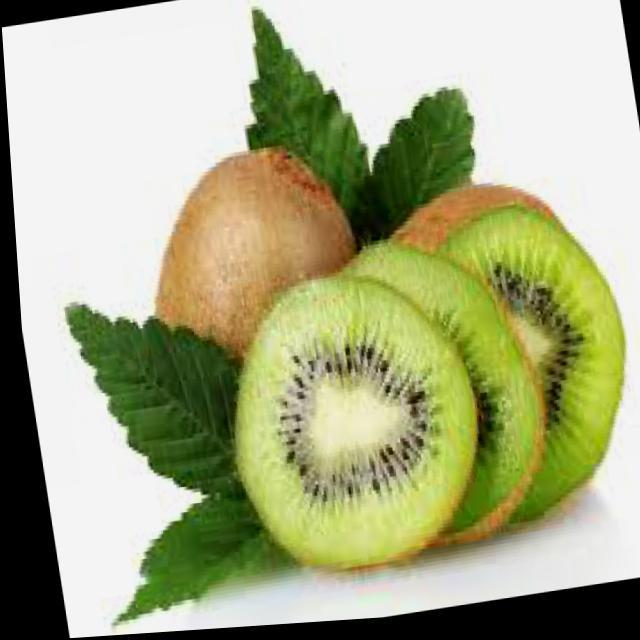kiwi: (124, 137, 386, 507)
